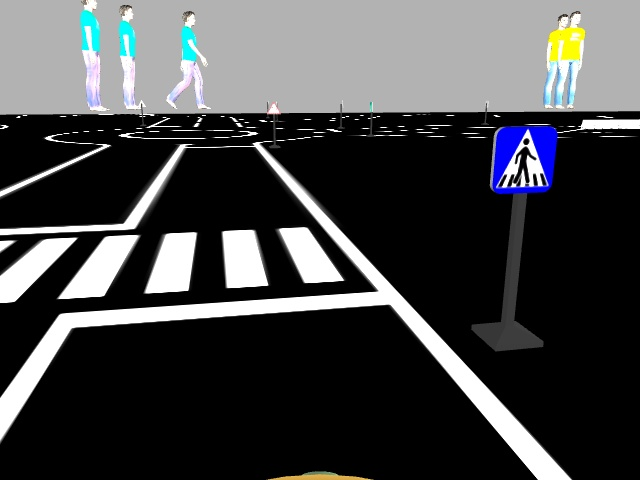Crosswalk: (489, 125, 557, 194)
